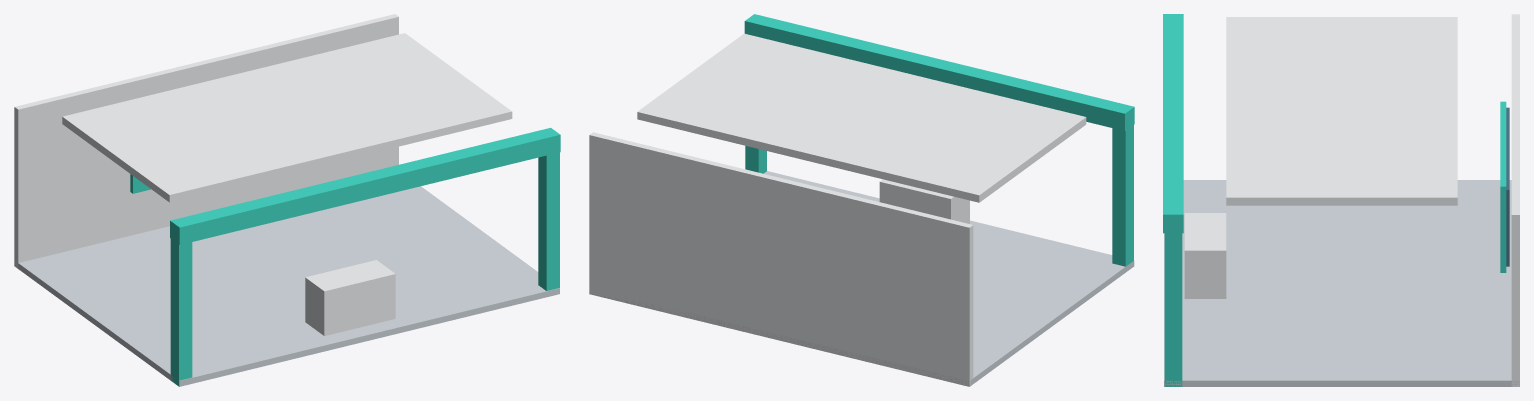
3 renders of one model, left to right at view 1: azimuth 30°, elevation 25°; view 2: azimuth 150°, elevation 25°; view 3: azimuth 270°, elevation 25°, orthographic. The views are drawn at different scales.
Parts seen in each view (by area): view 1: Exhibition Booth Concept; view 2: Exhibition Booth Concept; view 3: Exhibition Booth Concept.
Part boxes in pixels (left/top/right/bottom): Exhibition Booth Concept: left=14, top=14, right=560, bottom=386; Exhibition Booth Concept: left=589, top=14, right=1134, bottom=386; Exhibition Booth Concept: left=1163, top=14, right=1519, bottom=386.
Size of the model in its own units: 8 by 3.34 by 6.02.
